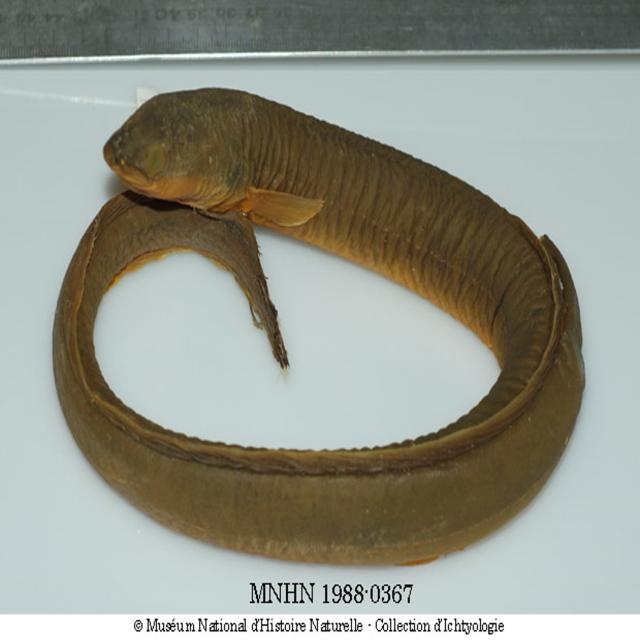Freshwater-Eel: (31, 83, 605, 569)
